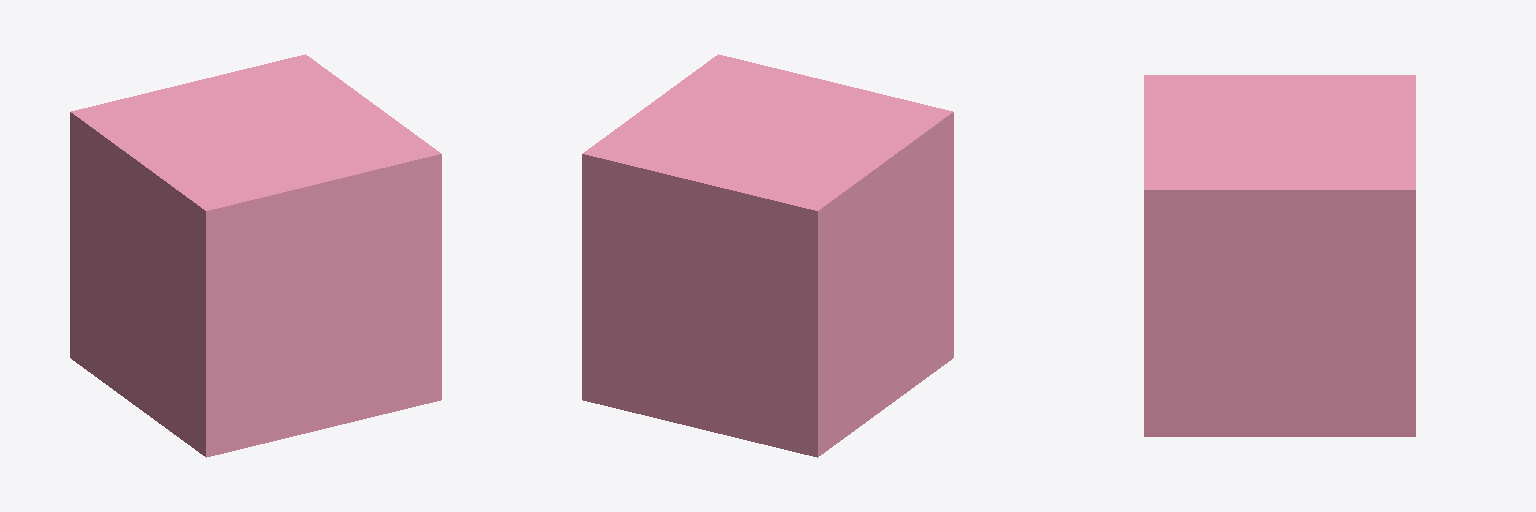
The picture shows the model from 3 angles: view 1: azimuth 30°, elevation 25°; view 2: azimuth 150°, elevation 25°; view 3: azimuth 270°, elevation 25°; orthographic projection.
Parts seen in each view (by area): view 1: Cube; view 2: Cube; view 3: Cube.
Boxes of the visible parts, box(x1,y1,x2,y2) form: Cube: box(70, 54, 441, 457); Cube: box(582, 54, 953, 457); Cube: box(1144, 75, 1415, 436).
Bounding box in the file's own units: 2 × 2 × 2.
1 materials, 1 textured.